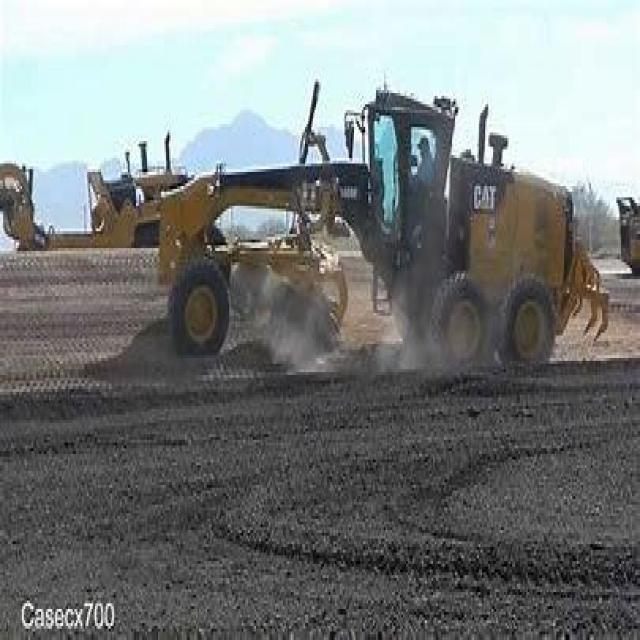Grader: (149, 70, 605, 378)
